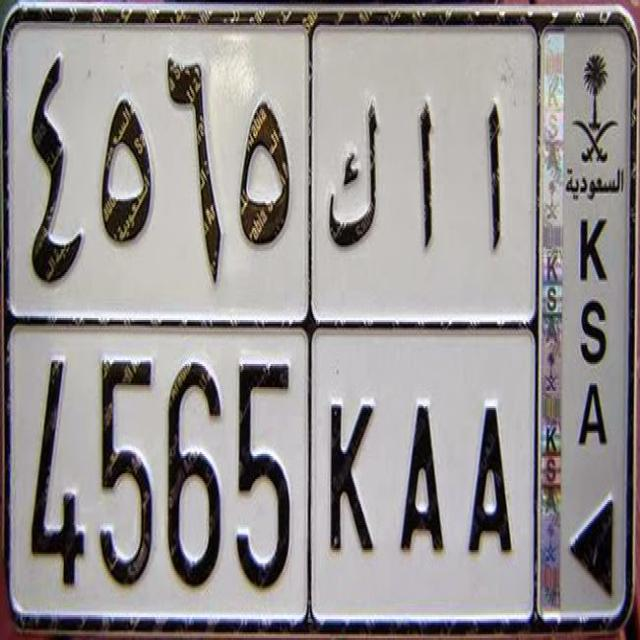license_plate: (5, 315, 540, 628)
